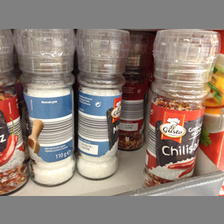spices: (143, 30, 220, 187), (13, 30, 77, 187), (75, 29, 130, 179)
